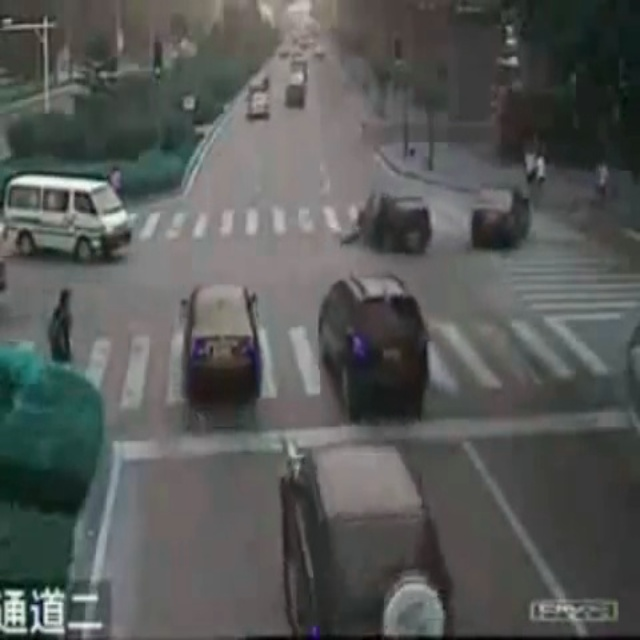acc: (363, 189, 527, 250)
